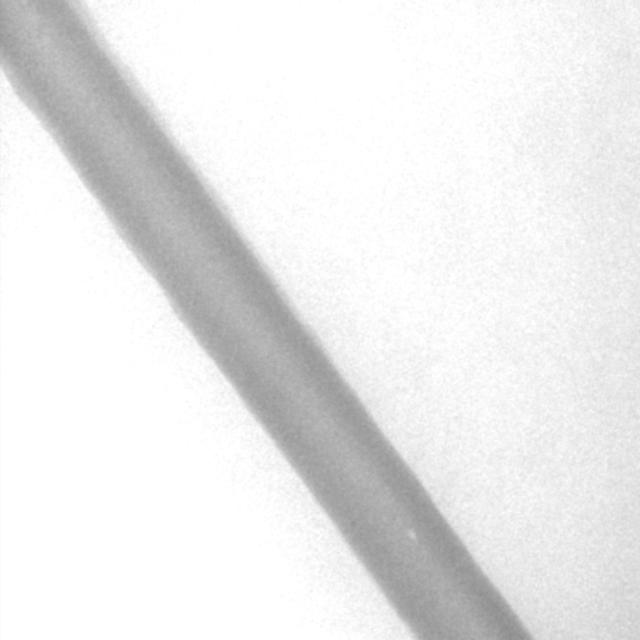air hole: (405, 522, 418, 542)
